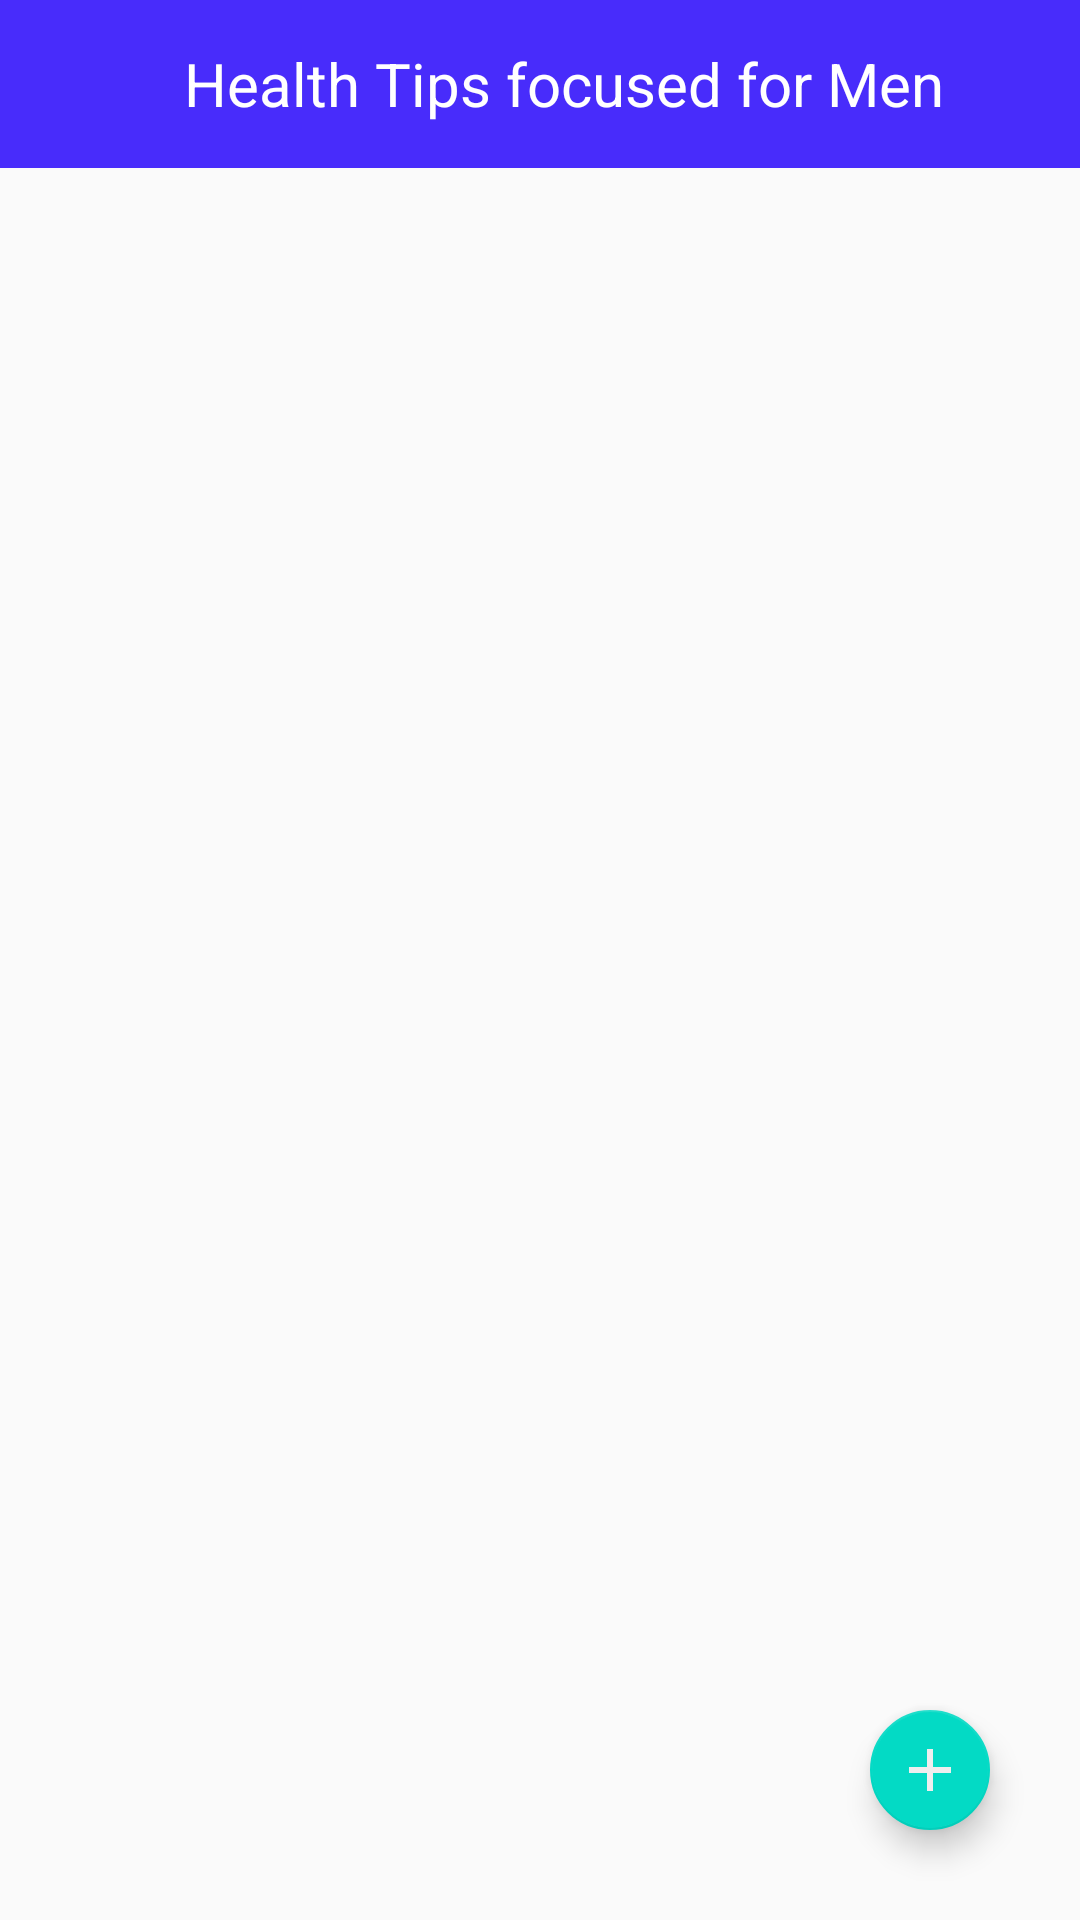

Icons on this 1080 × 1920 Android screen, each with the point to tap as (x=x, y=y):
add sign: (x=930, y=1770)
